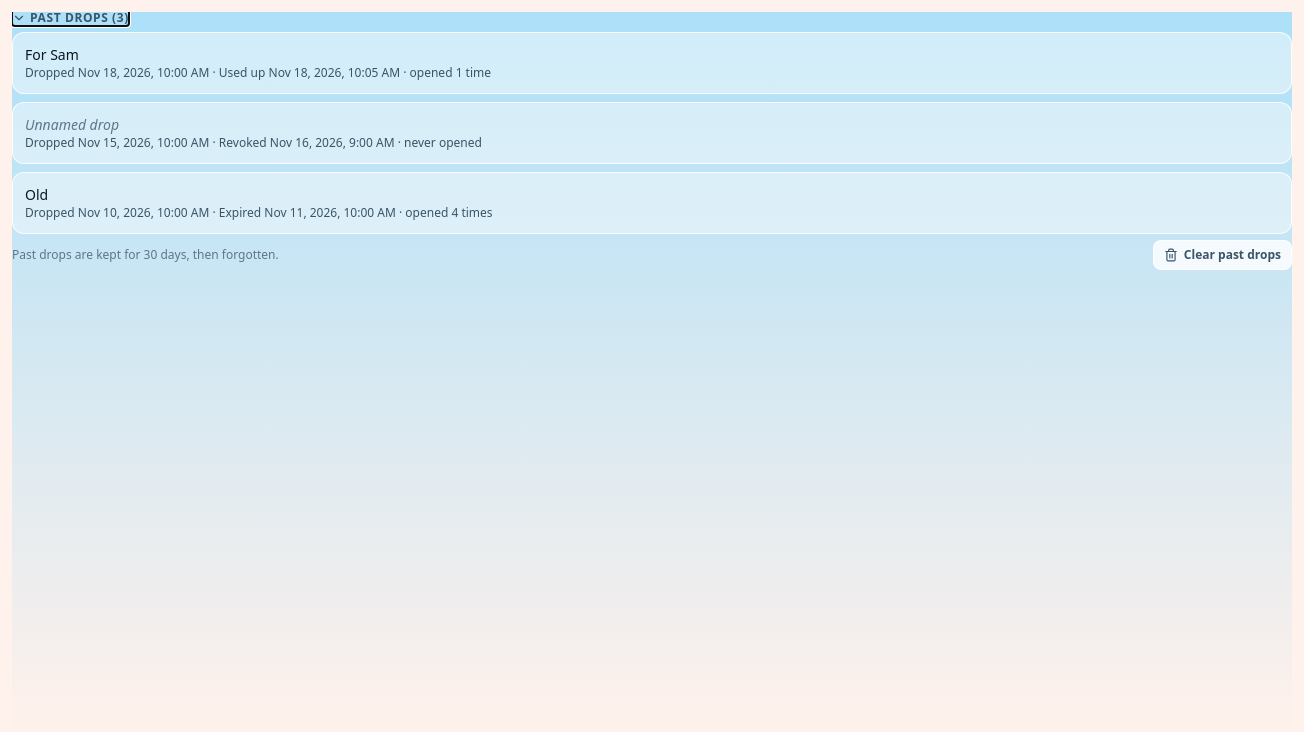
Test: SharedLinks › past links › clearing them › Keep backs out without clearing
The width and height of the screenshot is (1304, 732).
Earlier steps of the test are not shown.
Click the button "Clear past drops".
click(1222, 255)  # box [1153,240,1292,270]
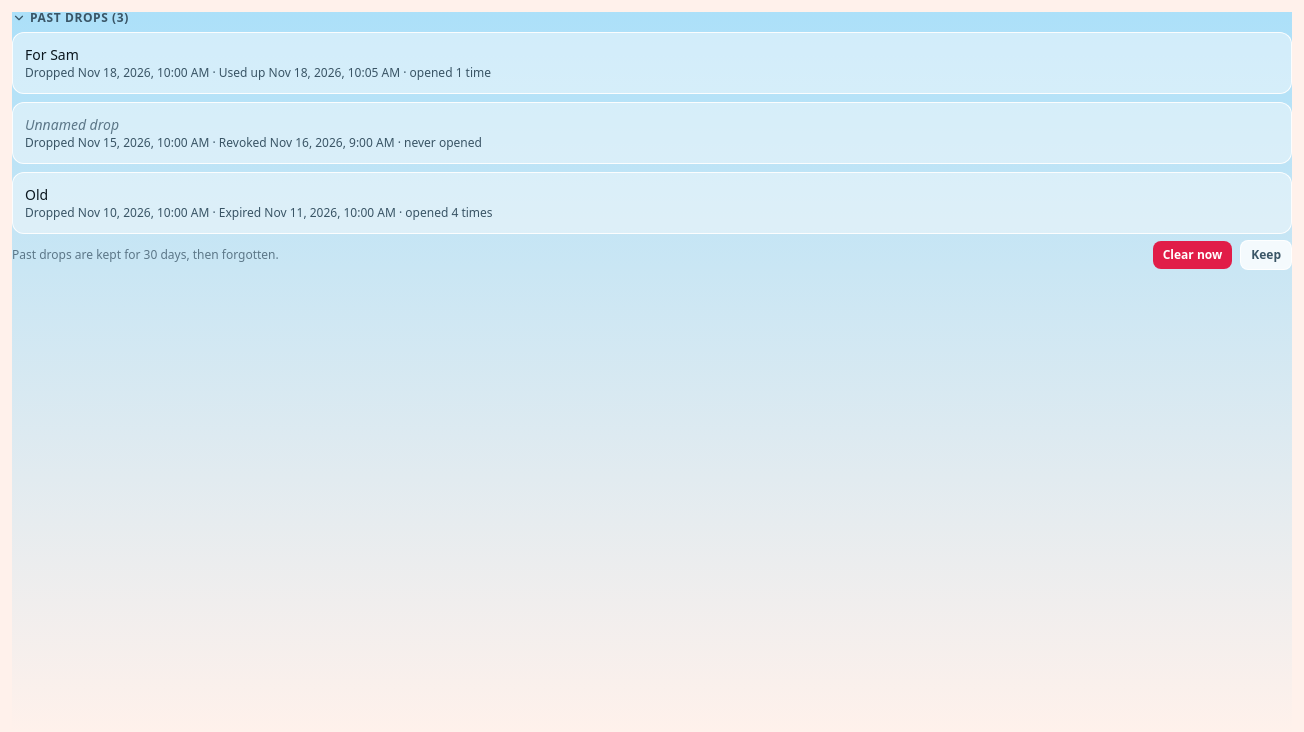
Click the button "Keep".
click(1266, 255)  # box [1240,240,1292,270]
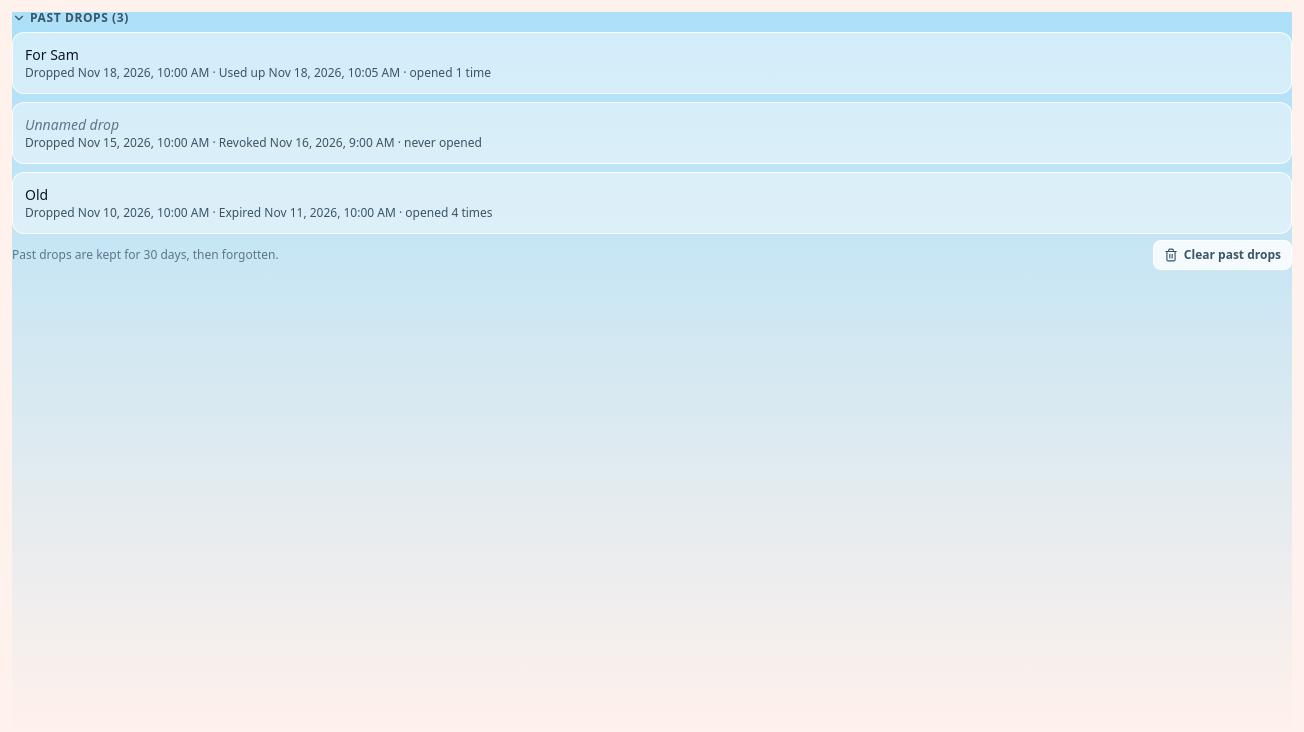
Result: the button "Clear past drops" is shown at [1153,240,1292,270]
